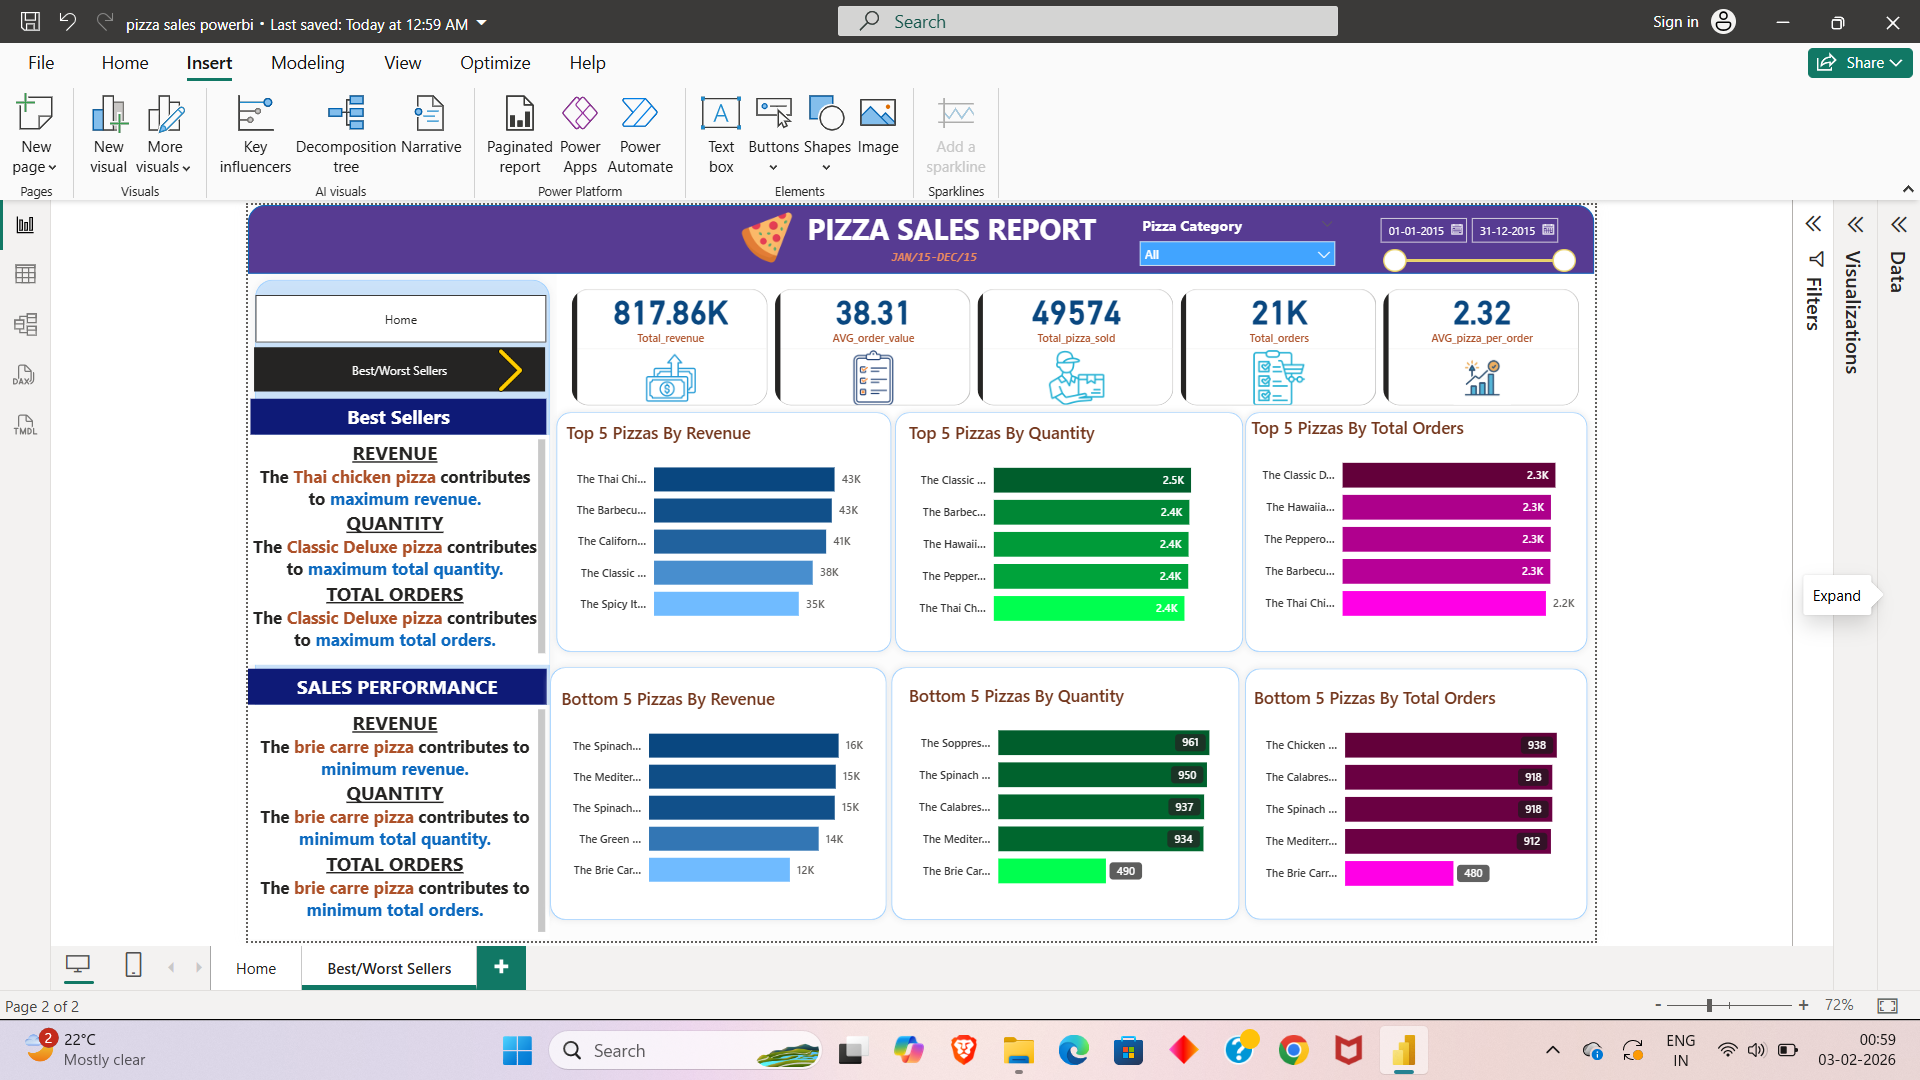

This screenshot's page, from the dashboard's own definition file:
{"tool":"powerbi","page":{"name":"Best/Worst Sellers","canvas":[1500,820],"ordinal":1},"visuals":[{"type":"cardVisual","fields":{"Data":["pizza_sales.Total_revenue","pizza_sales.AVG_order_value","pizza_sales.Total_pizza_sold","pizza_sales.Total_orders","pizza_sales.AVG_pizza_per_order"]},"box":[344.1,77.2,1156.2,164],"z":0},{"type":"shape","box":[0,75.6,344.1,741.3],"z":1000},{"type":"shape","box":[0,0,1499.9,76.6],"z":2000},{"type":"textbox","box":[306.4,0,955.4,111.4],"z":3000},{"type":"textbox","box":[711.7,43.2,110,43.2],"z":4000},{"type":"image","box":[504.1,7,147.6,58.5],"z":5000},{"type":"shape","box":[336.1,223.5,389.2,283],"z":6000},{"type":"textbox","box":[3.2,215.5,329.7,40.2],"z":7000},{"type":"textbox","box":[0,255.7,336.1,255.7],"z":8000},{"type":"textbox","box":[0,516.2,332.9,40.2],"z":9000},{"type":"textbox","box":[0,556.4,336.1,260.5],"z":10000},{"type":"slicer","fields":{"Values":["pizza_sales.pizza_category"]},"box":[983.2,7,238.1,69.6],"z":11000},{"type":"slicer","fields":{"Values":["pizza_sales.order_date"]},"box":[1249.2,4.2,238.1,72.4],"z":12000},{"type":"shape","box":[1103.1,223.5,397.2,283],"z":13000},{"type":"shape","box":[712.4,223.5,403.6,283],"z":14000},{"type":"shape","box":[328,506.5,390.8,297.5],"z":15000},{"type":"shape","box":[1103.1,508.1,397.2,295.9],"z":16000},{"type":"shape","box":[709.2,506.5,403.6,297.5],"z":17000},{"type":"barChart","title":"Top 5 Pizzas By Revenue","fields":{"Category":["pizza_sales.pizza_name"],"Y":["pizza_sales.Total_revenue"]},"box":[349.6,240.9,359.3,236.8],"z":18000},{"type":"barChart","title":"Bottom 5 Pizzas By Revenue","fields":{"Category":["pizza_sales.pizza_name"],"Y":["pizza_sales.Total_revenue"]},"box":[344.1,537.1,358.6,236.4],"z":19000},{"type":"barChart","title":"Top 5 Pizzas By Quantity","fields":{"Category":["pizza_sales.pizza_name"],"Y":["pizza_sales.Total_pizza_sold"]},"box":[731.7,241.2,349,242.8],"z":20000},{"type":"barChart","title":"Bottom 5 Pizzas By Quantity","fields":{"Category":["pizza_sales.pizza_name"],"Y":["pizza_sales.Total_pizza_sold"]},"box":[731.7,533.9,369.9,242.8],"z":21000},{"type":"barChart","title":"Top 5 Pizzas By Total Orders","fields":{"Category":["pizza_sales.pizza_name"],"Y":["pizza_sales.Total_orders"]},"box":[1112.8,234.8,374.7,242.8],"z":22000},{"type":"barChart","title":"Bottom 5 Pizzas By Total Orders","fields":{"Category":["pizza_sales.pizza_name"],"Y":["pizza_sales.Total_orders"]},"box":[1116,535.5,374.7,242.8],"z":23000},{"type":"pageNavigator","box":[6.4,159.2,324.8,49.9],"z":24000},{"type":"pageNavigator","box":[8,99.7,324.8,53.1],"z":25000},{"type":"image","box":[234.8,160.8,114.2,48.2],"z":26000}]}

Visuals, with their boxes on the page's 1500x820 design canvas (x1, y1, x2, y2). These are canvas units, not pixel positions in the 1920x1080 screenshot, which may show the page scaled, cropped or inside an application window:
cardVisual - pizza_sales.Total_revenue x pizza_sales.AVG_order_value: x1=344 y1=77 x2=1500 y2=241
shape: x1=0 y1=76 x2=344 y2=817
shape: x1=0 y1=0 x2=1500 y2=77
textbox: x1=306 y1=0 x2=1262 y2=111
textbox: x1=712 y1=43 x2=822 y2=86
image: x1=504 y1=7 x2=652 y2=66
shape: x1=336 y1=224 x2=725 y2=506
textbox: x1=3 y1=216 x2=333 y2=256
textbox: x1=0 y1=256 x2=336 y2=511
textbox: x1=0 y1=516 x2=333 y2=556
textbox: x1=0 y1=556 x2=336 y2=817
slicer - pizza_sales.pizza_category: x1=983 y1=7 x2=1221 y2=77
slicer - pizza_sales.order_date: x1=1249 y1=4 x2=1487 y2=77
shape: x1=1103 y1=224 x2=1500 y2=506
shape: x1=712 y1=224 x2=1116 y2=506
shape: x1=328 y1=506 x2=719 y2=804
shape: x1=1103 y1=508 x2=1500 y2=804
shape: x1=709 y1=506 x2=1113 y2=804
"Top 5 Pizzas By Revenue" barChart: x1=350 y1=241 x2=709 y2=478
"Bottom 5 Pizzas By Revenue" barChart: x1=344 y1=537 x2=703 y2=774
"Top 5 Pizzas By Quantity" barChart: x1=732 y1=241 x2=1081 y2=484
"Bottom 5 Pizzas By Quantity" barChart: x1=732 y1=534 x2=1102 y2=777
"Top 5 Pizzas By Total Orders" barChart: x1=1113 y1=235 x2=1488 y2=478
"Bottom 5 Pizzas By Total Orders" barChart: x1=1116 y1=536 x2=1491 y2=778
pageNavigator: x1=6 y1=159 x2=331 y2=209
pageNavigator: x1=8 y1=100 x2=333 y2=153
image: x1=235 y1=161 x2=349 y2=209
